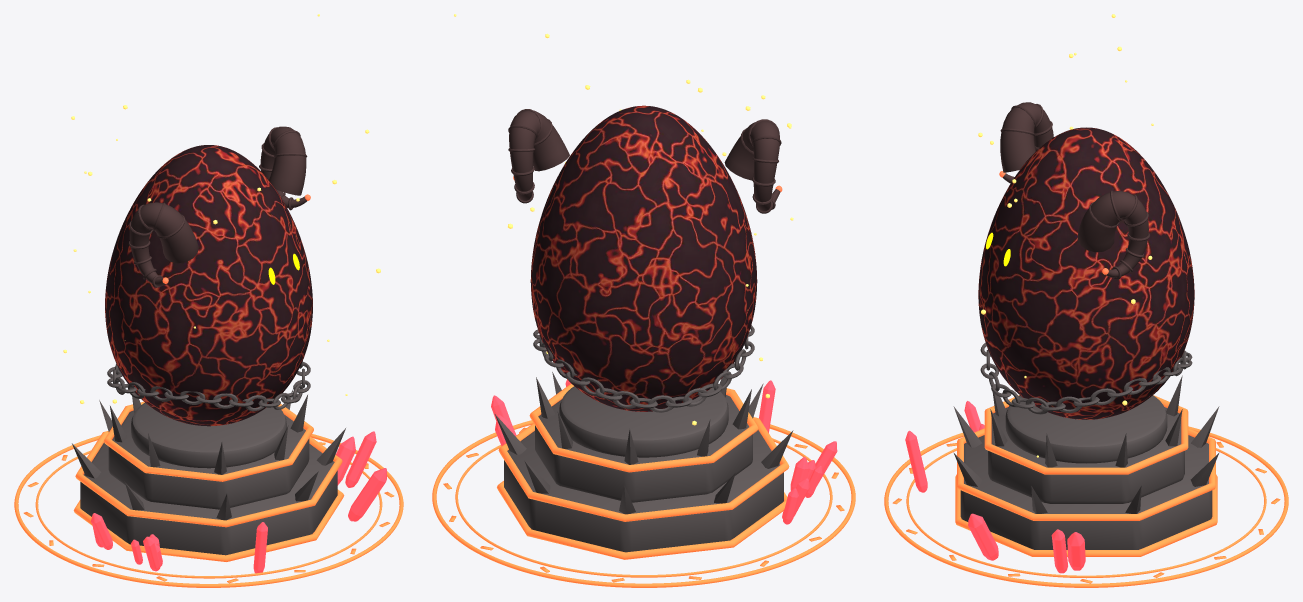
Rendered from infernalegg.glb.
The picture shows the model from 3 angles, left to right: view 1: azimuth 30°, elevation 25°; view 2: azimuth 150°, elevation 25°; view 3: azimuth 270°, elevation 25°; orthographic projection. The views are drawn at different scales.
Parts seen in each view (by area): view 1: InfernalEgg_Body, InfernalEgg_Stand_Base, InfernalEgg_Stand_Mid, InfernalEgg_Stand_Cup, InfernalEgg_RamHorn.001, InfernalEgg_RuneCircle, InfernalEgg_Stand_Trim, InfernalEgg_RamHorn, InfernalEgg_Stand_Trim.001, InfernalEgg_Stand_Trim.002, InfernalEgg_RuneCircle.001, InfernalEgg_BaseCrystal.004 (+3 smaller); view 2: InfernalEgg_Body, InfernalEgg_Stand_Base, InfernalEgg_Stand_Mid, InfernalEgg_Stand_Cup, InfernalEgg_RuneCircle, InfernalEgg_Stand_Trim, InfernalEgg_RamHorn, InfernalEgg_RamHorn.001, InfernalEgg_Stand_Trim.002, InfernalEgg_Stand_Trim.001, InfernalEgg_RuneCircle.001; view 3: InfernalEgg_Body, InfernalEgg_Stand_Base, InfernalEgg_Stand_Mid, InfernalEgg_Stand_Cup, InfernalEgg_RamHorn, InfernalEgg_RuneCircle, InfernalEgg_Stand_Trim, InfernalEgg_RamHorn.001, InfernalEgg_Stand_Trim.001, InfernalEgg_Stand_Trim.002, InfernalEgg_RuneCircle.001, InfernalEgg_BaseCrystal.004 (+3 smaller).
Boxes of the visible parts, box(x1,y1,x2,y2) form: InfernalEgg_Body: box(105, 145, 312, 426); InfernalEgg_Stand_Base: box(80, 442, 337, 555); InfernalEgg_Stand_Mid: box(108, 410, 309, 509); InfernalEgg_Stand_Cup: box(131, 403, 286, 468); InfernalEgg_RamHorn.001: box(129, 202, 198, 286); InfernalEgg_RuneCircle: box(14, 434, 403, 587); InfernalEgg_Stand_Trim: box(75, 431, 342, 527); InfernalEgg_RamHorn: box(260, 126, 306, 207); InfernalEgg_Stand_Trim.001: box(104, 401, 313, 481); InfernalEgg_Stand_Trim.002: box(73, 489, 344, 561); InfernalEgg_RuneCircle.001: box(35, 450, 382, 578); InfernalEgg_BaseCrystal.004: box(348, 468, 386, 521); InfernalEgg_Body: box(530, 105, 757, 411); InfernalEgg_Stand_Base: box(504, 430, 783, 552); InfernalEgg_Stand_Mid: box(535, 395, 752, 502); InfernalEgg_Stand_Cup: box(559, 386, 728, 457); InfernalEgg_RuneCircle: box(432, 420, 855, 587); InfernalEgg_Stand_Trim: box(498, 417, 789, 521); InfernalEgg_RamHorn: box(509, 110, 569, 200); InfernalEgg_RamHorn.001: box(724, 121, 780, 211); InfernalEgg_Stand_Trim.002: box(497, 481, 787, 559); InfernalEgg_Stand_Trim.001: box(529, 383, 758, 472); InfernalEgg_RuneCircle.001: box(455, 438, 832, 577); InfernalEgg_Body: box(978, 127, 1194, 419); InfernalEgg_Stand_Base: box(960, 435, 1212, 549); InfernalEgg_Stand_Mid: box(988, 407, 1184, 503); InfernalEgg_Stand_Cup: box(1005, 395, 1167, 463); InfernalEgg_RamHorn: box(1077, 191, 1148, 277); InfernalEgg_RuneCircle: box(884, 426, 1288, 587); InfernalEgg_Stand_Trim: box(957, 428, 1215, 520); InfernalEgg_RamHorn.001: box(1000, 102, 1053, 183); InfernalEgg_Stand_Trim.001: box(984, 395, 1188, 474); InfernalEgg_Stand_Trim.002: box(955, 474, 1217, 556); InfernalEgg_RuneCircle.001: box(906, 448, 1266, 578); InfernalEgg_BaseCrystal.004: box(968, 513, 998, 560).
Bounding box in the file's own units: 4.75 × 5.94 × 4.75.
Materials: 8 (1 with a texture image).
